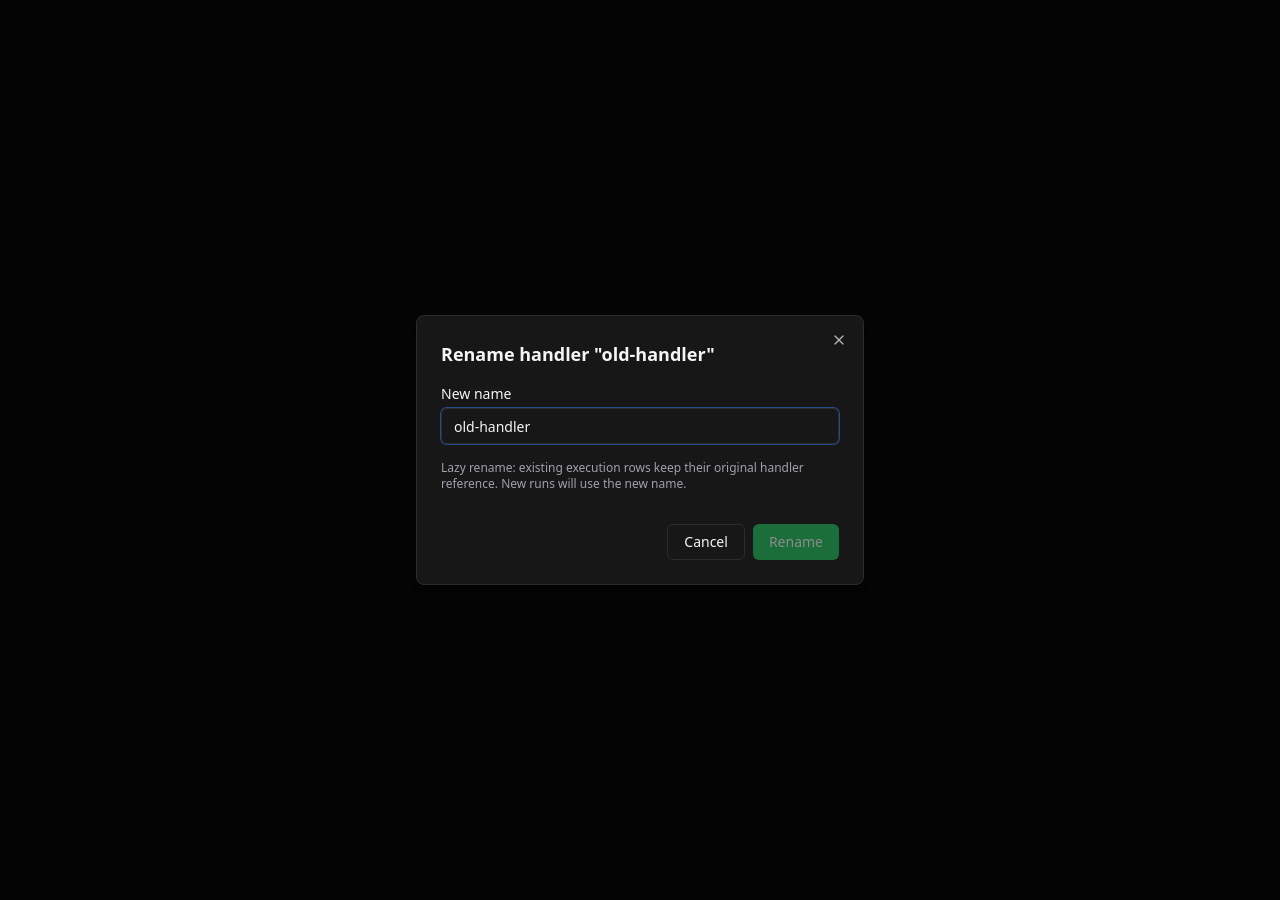
RenameHandlerDialog › enables the Rename button when name is changed and valid
Replace the text in the field labelled "New name" with "new-handler". click: (640, 426)
box: [441,408,839,444]
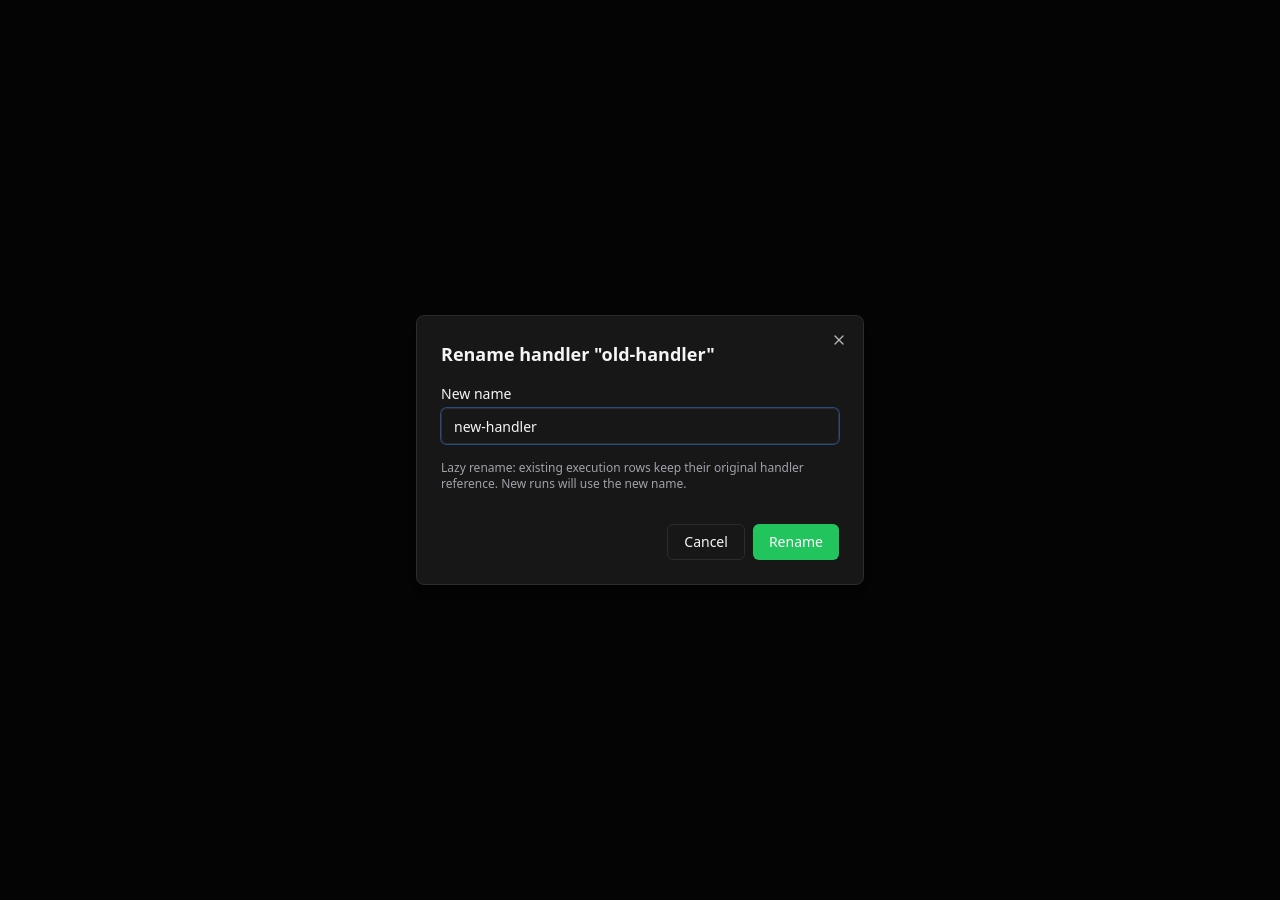
Check: the button "Rename" is enabled, box [753,524,839,560]
